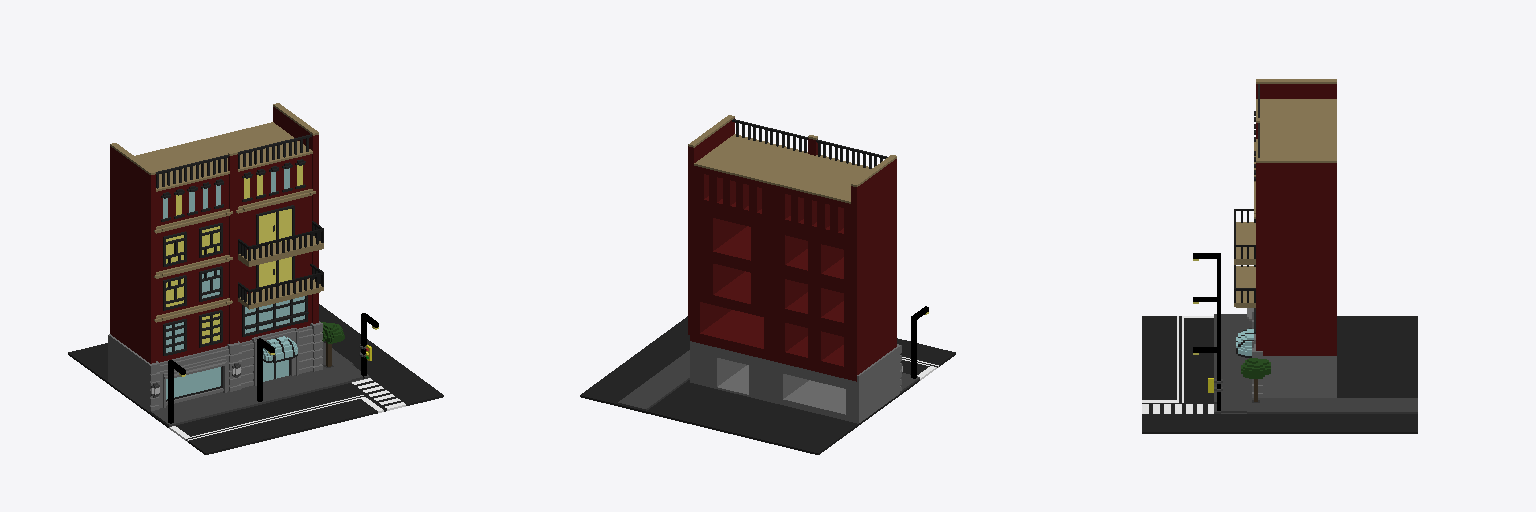
3 renders of one model, left to right at view 1: azimuth 30°, elevation 25°; view 2: azimuth 150°, elevation 25°; view 3: azimuth 270°, elevation 25°, orthographic.
Visible parts, largest first — view 1: predio; view 2: predio; view 3: predio.
Boxes of the visible parts, x1,y1,x2,y2 form: predio: [68, 103, 443, 454]; predio: [580, 115, 955, 454]; predio: [1142, 79, 1417, 433].
Size of the model in its own units: 126 by 121 by 126.
1 materials, 1 textured.